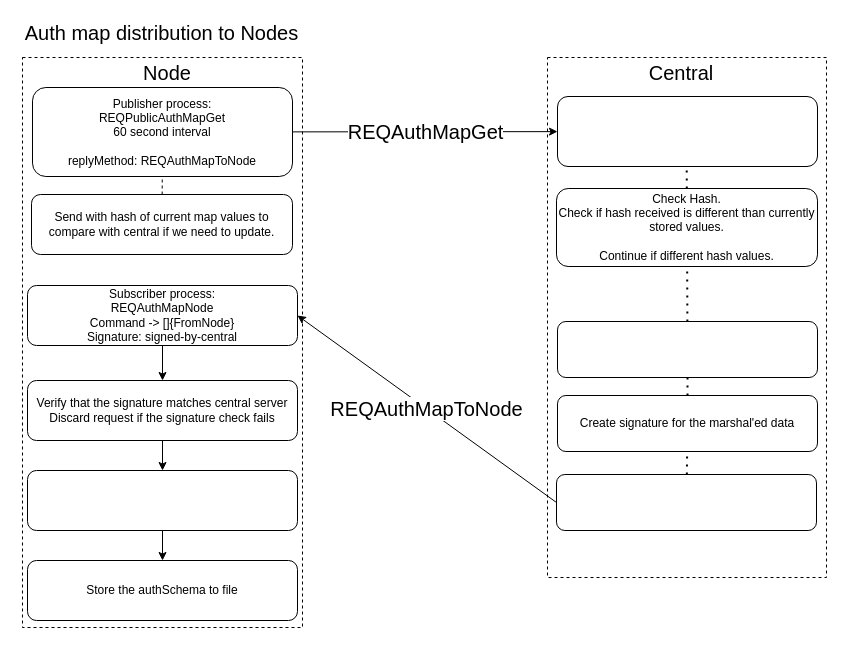
Some shapes in this 844 by 645 pixel diagram are drawn without their labels. The shapes that lost their labels are listed below. From the top down, each one's box as (x1, y1, x2, y2) in pixels, then its label:
(556, 96, 818, 166): Subscriber process: REQAuthMapGet
(556, 320, 818, 378): Marshal node specific auth map
(26, 470, 298, 530): Store the authSchema in in-memory hash map
(556, 474, 816, 530): Send reply message back
